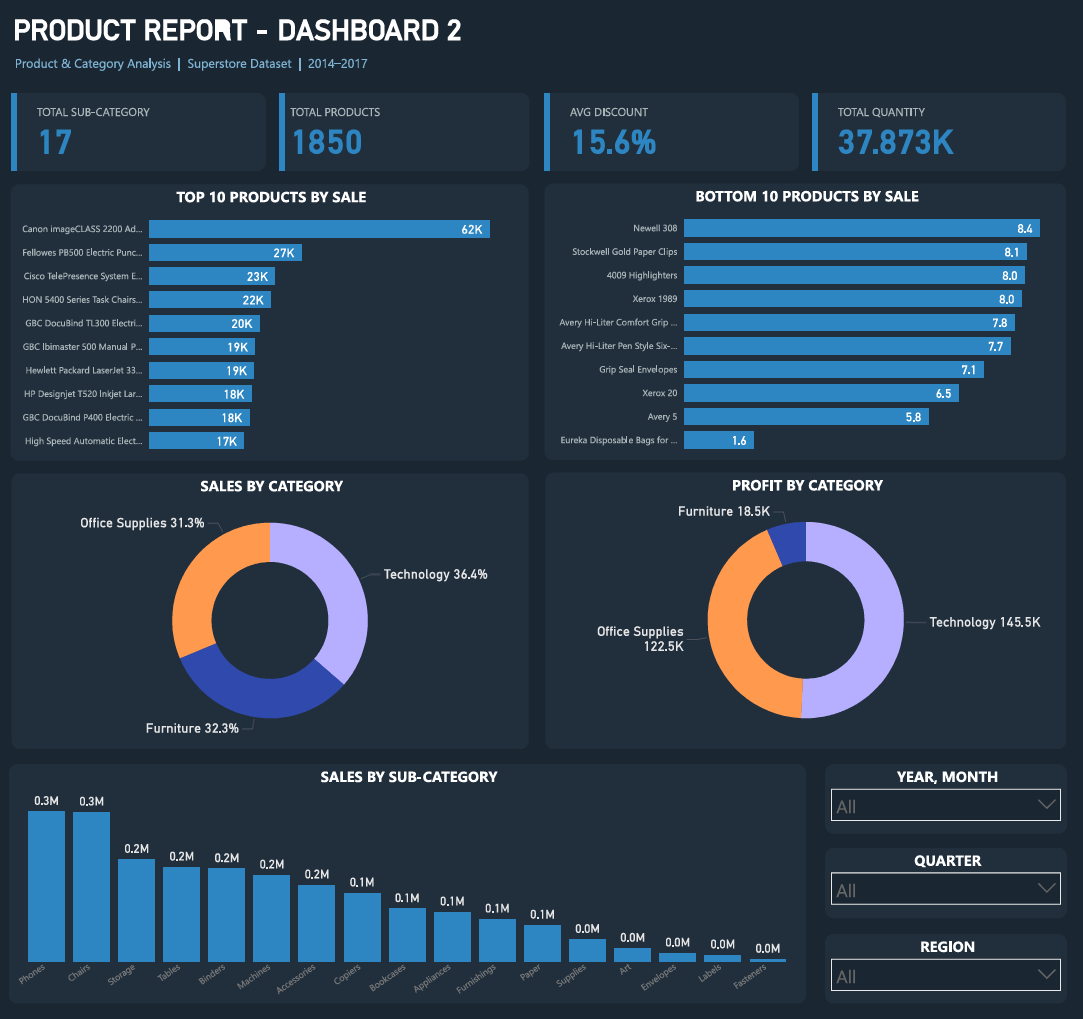

Layout of this report page (visuals, bound fields, positions):
{"tool":"powerbi","page":{"name":"Dashboard 2 - PRODUCTS","canvas":[1285,1210],"ordinal":1},"visuals":[{"type":"textbox","box":[14.4,12,557.7,47.9],"z":0},{"type":"textbox","box":[15.6,59.8,435.6,33.5],"z":1000},{"type":"cardVisual","fields":{"Data":["Count(Sample - Superstore.Product Name)"]},"box":[334.8,110.7,295.1,92.2],"z":2000},{"type":"cardVisual","fields":{"Data":["Sample - Superstore.AVG DISCOUNT"]},"box":[648.3,110.7,300.8,92.2],"z":3000},{"type":"cardVisual","fields":{"Data":["Count(Sample - Superstore.Sub-Category)"]},"box":[17,110.7,300.8,92.2],"z":4000},{"type":"cardVisual","fields":{"Data":["Sum(Sample - Superstore.Quantity)"]},"box":[964.7,110.7,300.8,92.2],"z":5000},{"type":"barChart","title":"TOP 10 PRODUCTS BY SALE","fields":{"Category":["Sample - Superstore.Product Name"],"Y":["Sum(Sample - Superstore.Sales)"]},"box":[15.6,219,613.9,326.7],"z":6000},{"type":"donutChart","title":"PROFIT BY CATEGORY","fields":{"Category":["Sample - Superstore.Category"],"Y":["Sum(Sample - Superstore.Profit)"]},"box":[648.6,560,616.3,326.7],"z":7000},{"type":"columnChart","title":"SALES BY SUB-CATEGORY","fields":{"Category":["Sample - Superstore.Sub-Category"],"Y":["Sum(Sample - Superstore.Sales)"]},"box":[14.4,904.7,943,283.6],"z":8000},{"type":"barChart","title":"BOTTOM 10 PRODUCTS BY SALE","fields":{"Category":["Sample - Superstore.Product Name"],"Y":["Sum(Sample - Superstore.Sales)"]},"box":[648.3,218.5,617.1,326.3],"z":9000},{"type":"donutChart","title":"SALES BY CATEGORY","fields":{"Y":["Sum(Sample - Superstore.Sales)"],"Category":["Sample - Superstore.Category"]},"box":[16.8,561.2,612.7,325.5],"z":10000},{"type":"slicer","title":"YEAR, MONTH","fields":{"Values":["Sample - Superstore.Order Date.Variation.Date Hierarchy.Year","Sample - Superstore.Order Date.Variation.Date Hierarchy.Month"]},"box":[980.1,904.7,286,82],"z":11000},{"type":"slicer","title":"QUARTER","fields":{"Values":["Sample - Superstore.Order Date.Variation.Date Hierarchy.Quarter"]},"box":[980.1,1004,286,82.6],"z":12000},{"type":"slicer","title":"REGION","fields":{"Values":["Sample - Superstore.Region"]},"box":[980.1,1105.7,286,82.6],"z":13000}]}

Visuals, with their boxes in screenshot pixels (x1, y1, x2, y2), scaled from the page's 1285x1210 canvas onto the 1083x1019 screenshot:
textbox: crop(12, 10, 482, 50)
textbox: crop(13, 50, 380, 79)
cardVisual - Count(Sample - Superstore.Product Name): crop(282, 93, 531, 171)
cardVisual - Sample - Superstore.AVG DISCOUNT: crop(546, 93, 800, 171)
cardVisual - Count(Sample - Superstore.Sub-Category): crop(14, 93, 268, 171)
cardVisual - Sum(Sample - Superstore.Quantity): crop(813, 93, 1067, 171)
"TOP 10 PRODUCTS BY SALE" barChart: crop(13, 184, 531, 460)
"PROFIT BY CATEGORY" donutChart: crop(547, 472, 1066, 747)
"SALES BY SUB-CATEGORY" columnChart: crop(12, 762, 807, 1001)
"BOTTOM 10 PRODUCTS BY SALE" barChart: crop(546, 184, 1066, 459)
"SALES BY CATEGORY" donutChart: crop(14, 473, 531, 747)
"YEAR, MONTH" slicer: crop(826, 762, 1067, 831)
"QUARTER" slicer: crop(826, 846, 1067, 915)
"REGION" slicer: crop(826, 931, 1067, 1001)
